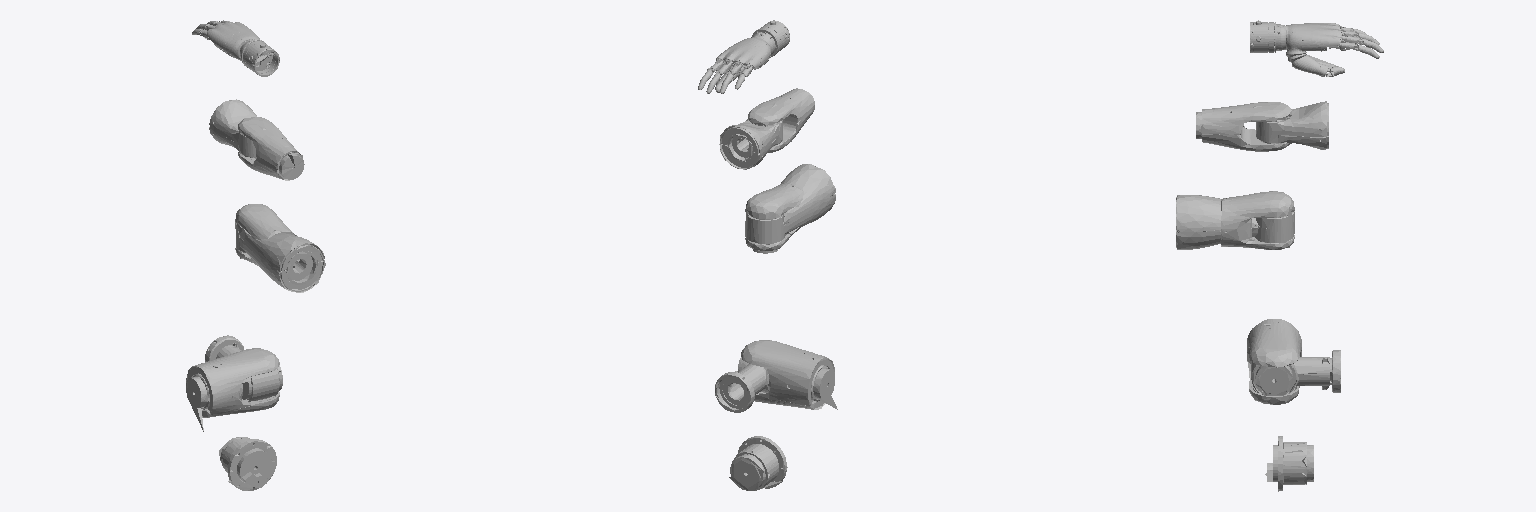
robot.urdf — genie01:
<?xml version="1.0" ?>
<!-- =================================================================================== -->
<!-- |    This document was autogenerated by xacro from /home/zy/Motion/calibration/ros2_visual/src/robot_description/xacro/robot_genieArm.xacro | -->
<!-- |    EDITING THIS FILE BY HAND IS NOT RECOMMENDED                                 | -->
<!-- =================================================================================== -->
<robot name="genie01">
  <link name="base_link"/>
  <joint name="Link_fixed" type="fixed">
    <origin rpy="0 0 0.0" xyz="0 0 0.0"/>
    <parent link="base_link"/>
    <child link="base_link_l"/>
    <axis xyz="0 0 0"/>
  </joint>
  <!-- 左臂的所有link和joint定义 -->
  <link name="base_link_l">
    <inertial>
      <origin rpy="0 0 0" xyz="-0.00020641 0.00057488 0.032296"/>
      <mass value="0.37595"/>
      <inertia ixx="0.00024335" ixy="1.2188E-06" ixz="-2.4281E-06" iyy="0.00024039" iyz="6.6932E-06" izz="0.00032195"/>
    </inertial>
    <visual>
      <origin rpy="0 0 0" xyz="0 0 0"/>
      <geometry>
        <mesh filename="meshes/visual/base_link_l.obj"/>
      </geometry>
      <material name="">
        <color rgba="0.75294 0.75294 0.75294 1"/>
      </material>
    </visual>
    <collision>
      <geometry>
        <cylinder length="0.0913499565795064" radius="0.05200000736048429"/>
      </geometry>
      <origin rpy="0.0 -0.0 -0.6283185307179586" xyz="1.162979919507825e-09 2.3673517507174665e-09 0.030325019266456366"/>
    </collision>
  </link>
  <link name="Link1_l">
    <inertial>
      <origin rpy="0 0 0" xyz="-0.0012655 -0.00043778 -0.018388"/>
      <mass value="0.4936"/>
      <inertia ixx="0.00075396" ixy="6.6935E-06" ixz="6.1141E-06" iyy="0.00065755" iyz="1.2196E-06" izz="0.00031848"/>
    </inertial>
    <visual>
      <origin rpy="1.5708 -1.5708 0" xyz="0 0 0"/>
      <geometry>
        <mesh filename="meshes/visual/Link1_l.obj"/>
      </geometry>
      <material name="">
        <color rgba="0.75294 0.75294 0.75294 1"/>
      </material>
    </visual>
    <collision>
      <geometry>
        <cylinder length="0.1638999544084072" radius="0.05559538401924806"/>
      </geometry>
      <origin rpy="1.5708 -1.5708 0" xyz="0 0 0"/>
    </collision>
  </link>
  <link name="Link2_l">
    <inertial>
      <origin rpy="0 0 0" xyz="5.3037E-05 -0.078258 0.0047084"/>
      <mass value="0.46245"/>
      <inertia ixx="0.00065719" ixy="3.7112E-07" ixz="-3.6668E-06" iyy="0.00043459" iyz="-2.517E-05" izz="0.00072571"/>
    </inertial>
    <visual>
      <origin rpy="-1.5708 0 0" xyz="0 0 0"/>
      <geometry>
        <mesh filename="meshes/visual/Link2_l.obj"/>
      </geometry>
      <material name="">
        <color rgba="0.75294 0.75294 0.75294 1"/>
      </material>
    </visual>
    <collision>
      <origin rpy="-1.5708 0.0 -0.0" xyz="0.0 -0.03777446600000001 -0.034179688"/>
      <geometry>
        <box size="0.078125 0.15545113 0.021484375"/>
      </geometry>
    </collision>
    <collision>
      <origin rpy="-1.5708 0.0 -0.0" xyz="0.0 -0.092986956 -0.00048828125"/>
      <geometry>
        <box size="0.0703125 0.08602613 0.07128906"/>
      </geometry>
    </collision>
  </link>
  <link name="Link3_l">
    <inertial>
      <origin rpy="0 0 0" xyz="-0.0012032 0.0008714 -0.055265"/>
      <mass value="0.50026"/>
      <inertia ixx="0.0013016" ixy="3.1401E-06" ixz="1.4255E-05" iyy="0.001427" iyz="2.4361E-05" izz="0.00033587"/>
    </inertial>
    <visual>
      <origin rpy="1.5708 3.14 0.0" xyz="0 0 0.0"/>
      <geometry>
        <mesh filename="meshes/visual/Link3_l.obj"/>
      </geometry>
      <material name="">
        <color rgba="0.75294 0.75294 0.75294 1"/>
      </material>
    </visual>
    <collision>
      <geometry>
        <cylinder length="0.21500002965331078" radius="0.05134501389693651"/>
      </geometry>
      <origin rpy="0.0 -0.0 -1.8849555921538759" xyz="1.8626451537276945e-09 -0.005707027504228184 -0.07249999232590199"/>
    </collision>
  </link>
  <link name="Link4_l">
    <inertial>
      <origin rpy="0 0 0" xyz="3.7035E-05 -0.06248 0.0025377"/>
      <mass value="0.27473"/>
      <inertia ixx="0.00029284" ixy="4.6615E-07" ixz="6.2359E-08" iyy="0.00018853" iyz="-1.1062E-06" izz="0.00031238"/>
    </inertial>
    <visual>
      <origin rpy="-1.5708 0 0" xyz="0 0 0"/>
      <geometry>
        <mesh filename="meshes/visual/Link4_l.obj"/>
      </geometry>
      <material name="">
        <color rgba="0.75294 0.75294 0.75294 1"/>
      </material>
    </visual>
    <collision>
      <origin rpy="-0.0 0.0 -0.0" xyz="0.0 -0.030868530000000005 -0.030273438"/>
      <geometry>
        <box size="0.0703125 0.13151169 0.017578125"/>
      </geometry>
    </collision>
    <collision>
      <origin rpy="-0.0 0.0 -0.0" xyz="0.0 -0.07945728 -0.001953125"/>
      <geometry>
        <box size="0.056640625 0.07028388999999999 0.0625"/>
      </geometry>
    </collision>
  </link>
  <link name="Link5_l">
    <inertial>
      <origin rpy="0 0 0" xyz="-7.9404E-07 -0.00023094 -0.024143"/>
      <mass value="0.25139"/>
      <inertia ixx="0.00023516" ixy="-1.3496E-09" ixz="-2.0314E-08" iyy="0.00028808" iyz="-1.2106E-05" izz="0.00013069"/>
    </inertial>
    <visual>
      <origin rpy="-1.5708 0 0" xyz="0 0 0.0"/>
      <geometry>
        <mesh filename="meshes/visual/Link5_l.obj"/>
      </geometry>
      <material name="">
        <color rgba="0.75294 0.75294 0.75294 1"/>
      </material>
    </visual>
    <collision>
      <geometry>
        <cylinder length="0.12419998832046986" radius="0.04058189219799553"/>
      </geometry>
      <origin rpy="3.141592653589793 -1.2246467991473532e-16 3.141592653589793" xyz="-1.8626451568152156e-09 -3.2986506384037606e-05 -0.03359998669475317"/>
    </collision>
  </link>
  <link name="Link6_l">
    <inertial>
      <origin rpy="0 0 0" xyz="1.769E-06 -0.086692 0.0025571"/>
      <mass value="0.26634"/>
      <inertia ixx="0.00031434" ixy="-2.9254E-09" ixz="1.0017E-07" iyy="0.00014464" iyz="-2.0329E-05" izz="0.0003245"/>
    </inertial>
    <visual>
      <origin rpy="-1.5708 0 0" xyz="0 0 0"/>
      <geometry>
        <mesh filename="meshes/visual/Link6_l.obj"/>
      </geometry>
      <material name="">
        <color rgba="0.75294 0.75294 0.75294 1"/>
      </material>
    </visual>
    <collision>
      <origin rpy="-0.0 0.0 -0.0" xyz="0.0 -0.035750016999999995 -0.028320312"/>
      <geometry>
        <box size="0.05859375 0.12849998 0.015625"/>
      </geometry>
    </collision>
    <collision>
      <origin rpy="-0.0 0.0 -0.0" xyz="0.0 -0.10310431 -0.0009765625"/>
      <geometry>
        <box size="0.05859375 0.08339137000000002 0.05859375"/>
      </geometry>
    </collision>
  </link>
  <link name="Link7_l">
    <inertial>
      <origin rpy="0 0 0" xyz="-7.5113E-05 -0.00024521 -0.016705"/>
      <mass value="0.06158"/>
      <inertia ixx="1.8407E-05" ixy="3.4796E-08" ixz="-3.2424E-09" iyy="1.818E-05" iyz="1.1327E-07" izz="2.8547E-05"/>
    </inertial>
    <visual>
      <origin rpy="0 0 0" xyz="0 0 0.0"/>
      <geometry>
        <mesh filename="meshes/visual/Link7_l.obj"/>
      </geometry>
      <material name="">
        <color rgba="0.75294 0.75294 0.75294 1"/>
      </material>
    </visual>
    <collision>
      <geometry>
        <cylinder length="0.04599999970197749" radius="0.030803805454578115"/>
      </geometry>
      <origin rpy="3.141592653589793 -1.2246467991473532e-16 3.141592653589793" xyz="-0.0022255658813748946 -0.0005957682043378973 -0.023000000238418226"/>
    </collision>
  </link>
  <link name="Link_hand_l">
    <inertial>
      <origin rpy="0 0 0" xyz="0.0036691 0.0082806 0.059221"/>
      <mass value="0.070229"/>
      <inertia ixx="5.5259E-05" ixy="-8.7205E-06" ixz="-7.9434E-06" iyy="6.2355E-05" iyz="-1.345E-05" izz="4.4874E-05"/>
    </inertial>
    <visual>
      <origin rpy="0 0 0" xyz="0 0 0"/>
      <geometry>
        <mesh filename="meshes/visual/Link_hand_l.obj"/>
      </geometry>
      <material name="">
        <color rgba="0.75294 0.75294 0.75294 1"/>
      </material>
    </visual>
    <collision>
      <origin rpy="-0.0 0.0 -0.0" xyz="0.0 0.0 0.0"/>
      <geometry>
        <box size="0.2 0.08 0.2"/>
      </geometry>
    </collision>
    <collision>
      <origin rpy="-0.0 0.0 0.5236" xyz="0.0 0.0 0.0"/>
      <geometry>
        <box size="0.2 0.08 0.2"/>
      </geometry>
    </collision>
  </link>
  <!-- 对关节的集中处理 -->
  <joint name="Joint1_l" type="revolute">
    <origin rpy="-1.5707963267948966            0            1.5707963267948966" xyz="0.0            0.0            0.188"/>
    <parent link="base_link_l"/>
    <child link="Link1_l"/>
    <axis xyz="0 -1 0"/>
    <limit effort="60" lower="-3.14" upper="3.14" velocity="3.14"/>
  </joint>
  <joint name="Joint2_l" type="revolute">
    <origin rpy="1.5707963267948966            0            0.0" xyz="0.0            0.0            0.0"/>
    <parent link="Link1_l"/>
    <child link="Link2_l"/>
    <axis xyz="0 1 0"/>
    <limit effort="60" lower="-1.48" upper="1.48" velocity="3.14"/>
  </joint>
  <joint name="Joint3_l" type="revolute">
    <origin rpy="-1.5707963267948966            0            1.5707963267948966" xyz="0.0            0.0            0.305"/>
    <parent link="Link2_l"/>
    <child link="Link3_l"/>
    <axis xyz="0 -1 0"/>
    <limit effort="60" lower="-3.14" upper="3.14" velocity="3.14"/>
  </joint>
  <joint name="Joint4_l" type="revolute">
    <origin rpy="1.5707963267948966            0            0.0" xyz="0.0            0.0            0.0"/>
    <parent link="Link3_l"/>
    <child link="Link4_l"/>
    <axis xyz="0 1 0"/>
    <limit effort="60" lower="-1.48" upper="1.48" velocity="3.14"/>
  </joint>
  <joint name="Joint5_l" type="revolute">
    <origin rpy="1.5707963267948966            0            0.0" xyz="0.0            0.0            0.1975"/>
    <parent link="Link4_l"/>
    <child link="Link5_l"/>
    <axis xyz="0 1 0"/>
    <limit effort="30" lower="-3.14" upper="3.14" velocity="3.14"/>
  </joint>
  <joint name="Joint6_l" type="revolute">
    <origin rpy="-1.5707963267948966            0            0.0" xyz="0.0            0.0            0.0"/>
    <parent link="Link5_l"/>
    <child link="Link6_l"/>
    <axis xyz="0 -1 0"/>
    <limit effort="30" lower="-1.74" upper="1.74" velocity="3.14"/>
  </joint>
  <joint name="Joint7_l" type="revolute">
    <origin rpy="0.0            0            3.141592653589793" xyz="-0.0            0.0            0.1805"/>
    <parent link="Link6_l"/>
    <child link="Link7_l"/>
    <axis xyz="0 0 1"/>
    <limit effort="30" lower="-3.14" upper="3.14" velocity="3.14"/>
  </joint>
  <joint name="Joint_hand_l" type="fixed">
    <origin rpy="0 0 0.0" xyz="0 0 0.0"/>
    <parent link="Link7_l"/>
    <child link="Link_hand_l"/>
    <axis xyz="0 0 0"/>
  </joint>
</robot>

--- Facts derived from the render (not from the file) ---
The picture shows the robot from 3 angles, left to right: view 1: azimuth 30°, elevation 25°; view 2: azimuth 150°, elevation 25°; view 3: azimuth 270°, elevation 25°; orthographic projection.
Robot: genie01 — 10 links, 9 joints (7 revolute, 2 fixed); root link base_link; default pose: every joint at zero.
Links seen in each view (by area): view 1: Link2_l, Link3_l, Link6_l, base_link_l, Link5_l, Link1_l, Link_hand_l, Link4_l, Link7_l; view 2: Link2_l, Link3_l, Link_hand_l, base_link_l, Link5_l, Link6_l, Link1_l, Link4_l; view 3: Link_hand_l, Link3_l, Link6_l, Link4_l, Link2_l, Link1_l, Link5_l, base_link_l, Link7_l.
Boxes of the visible links, <box> form: Link2_l: <box>186,348,279,431</box>; Link3_l: <box>235,222,325,292</box>; Link6_l: <box>238,117,304,180</box>; base_link_l: <box>219,437,276,490</box>; Link5_l: <box>209,99,256,157</box>; Link1_l: <box>205,335,282,401</box>; Link_hand_l: <box>192,20,265,67</box>; Link4_l: <box>235,204,296,265</box>; Link7_l: <box>243,41,279,76</box>; Link2_l: <box>741,340,837,409</box>; Link3_l: <box>745,164,835,253</box>; Link_hand_l: <box>698,29,778,93</box>; base_link_l: <box>729,436,787,490</box>; Link5_l: <box>719,119,782,169</box>; Link6_l: <box>748,88,814,152</box>; Link1_l: <box>715,357,770,412</box>; Link4_l: <box>745,183,803,250</box>; Link_hand_l: <box>1275,22,1383,76</box>; Link3_l: <box>1176,195,1294,249</box>; Link6_l: <box>1196,102,1291,151</box>; Link4_l: <box>1221,191,1294,249</box>; Link2_l: <box>1247,319,1301,404</box>; Link1_l: <box>1251,350,1340,395</box>; Link5_l: <box>1256,101,1328,149</box>; base_link_l: <box>1265,436,1313,491</box>; Link7_l: <box>1250,20,1274,52</box>.
Size in the robot's own frame: 0.188 by 0.386 by 0.9558 metres.
9 mesh visuals loaded from 9 distinct referenced files (9 OBJ).
